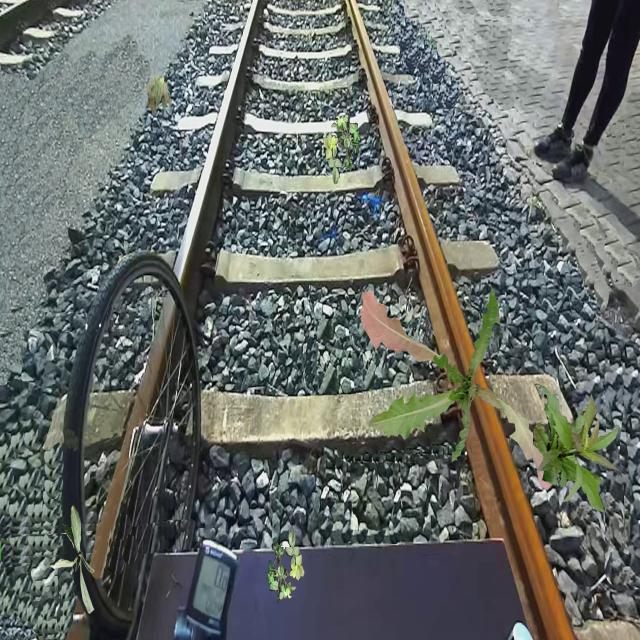Plant: (360, 288, 552, 490), (533, 384, 622, 514), (55, 505, 95, 615), (267, 530, 304, 604), (323, 111, 360, 184), (146, 73, 172, 116)
